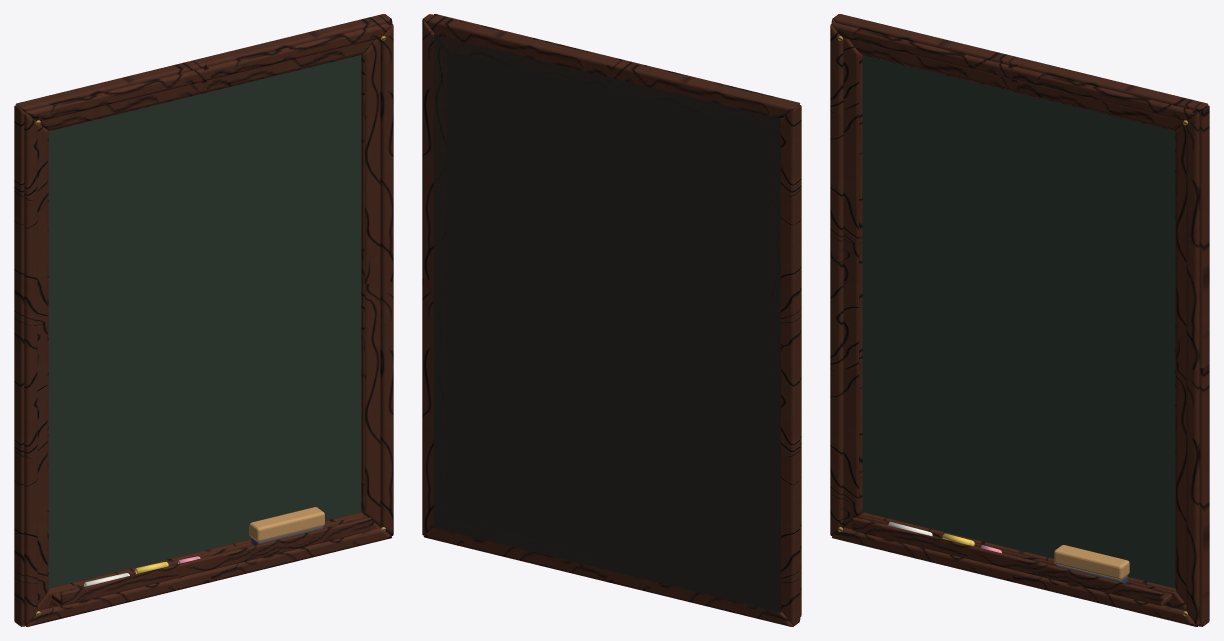
File: chalkboard.glb
3 views of the same model, side by side, from view 1: azimuth 30°, elevation 25°; view 2: azimuth 150°, elevation 25°; view 3: azimuth 330°, elevation 25° (orthographic).
Parts seen in each view (by area): view 1: slate, frame; view 2: frame; view 3: slate, frame.
Boxes of the visible parts, x1,y1,x2,y2 form: slate: [47, 55, 361, 588]; frame: [14, 14, 393, 626]; frame: [422, 14, 801, 626]; slate: [862, 55, 1176, 588]; frame: [830, 14, 1209, 626].
Size of the model in its own units: 0.6 by 0.8 by 0.05.
10 materials, 1 textured.
